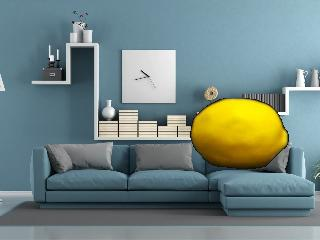lemon: (192, 99, 288, 167)
